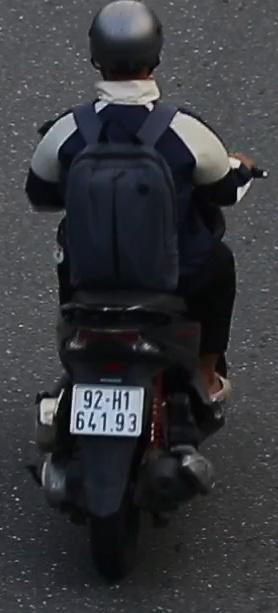LP: (70, 378, 149, 442)
helmet: (85, 0, 167, 118)
